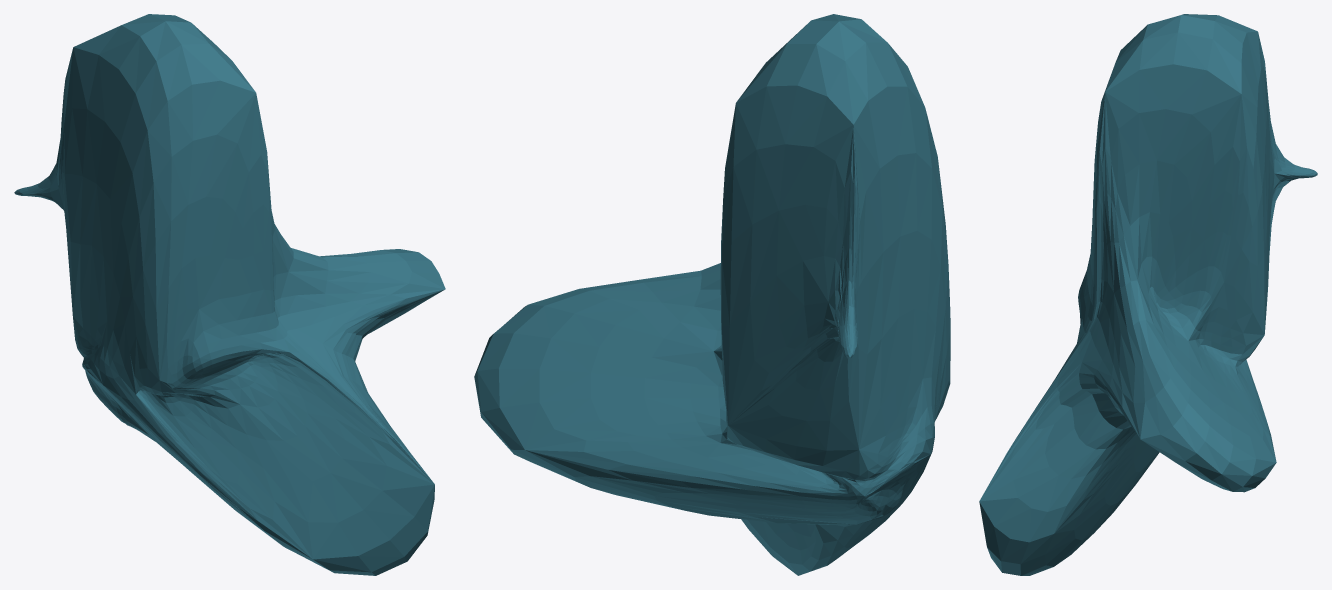
3 views of the same model, side by side, from view 1: azimuth 30°, elevation 25°; view 2: azimuth 150°, elevation 25°; view 3: azimuth 270°, elevation 25° (orthographic). The views are drawn at different scales.
Parts seen in each view (by area): view 1: 360_Cube.1470; view 2: 360_Cube.1470; view 3: 360_Cube.1470.
Part boxes in pixels (x1,y1,x2,y2): 360_Cube.1470: (14,14,445,575); 360_Cube.1470: (474,14,950,575); 360_Cube.1470: (979,14,1317,575).
Size of the model in its own units: 12.75 by 17.75 by 10.84.
